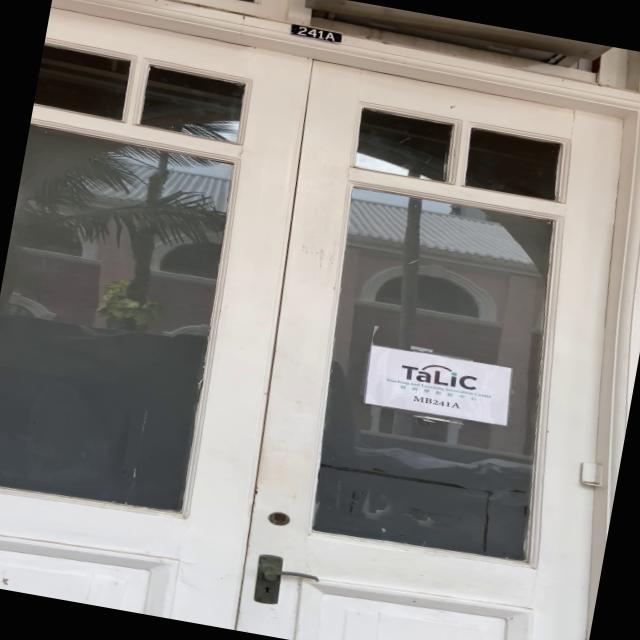room241a: (284, 18, 347, 46)
